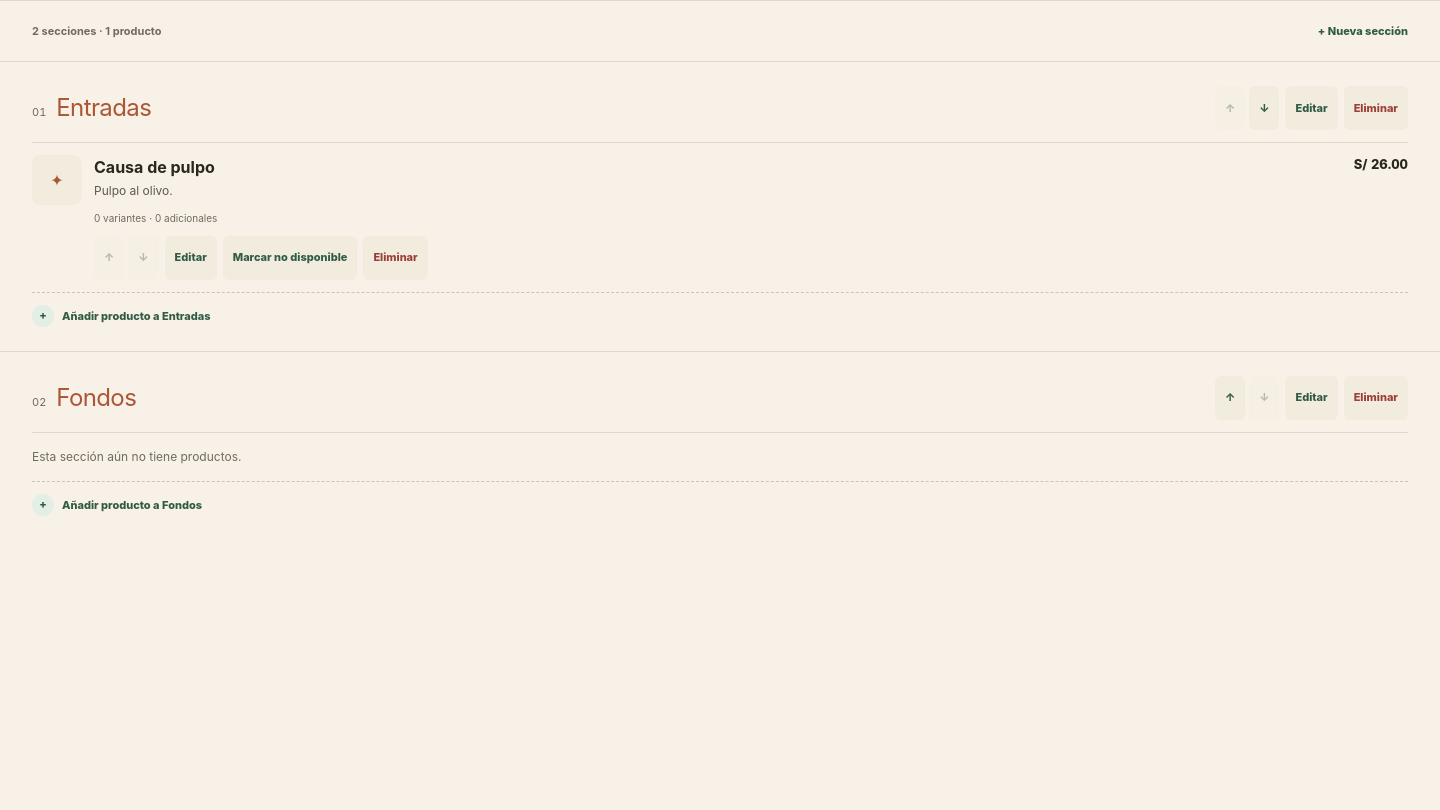
it: MenuManager · estilo de sección › ofrece los dos estilos y preselecciona el de la sección editada
Click the button with aria-label "Editar sección Fondos". click: point(1312, 398)
box: [1286, 376, 1338, 420]
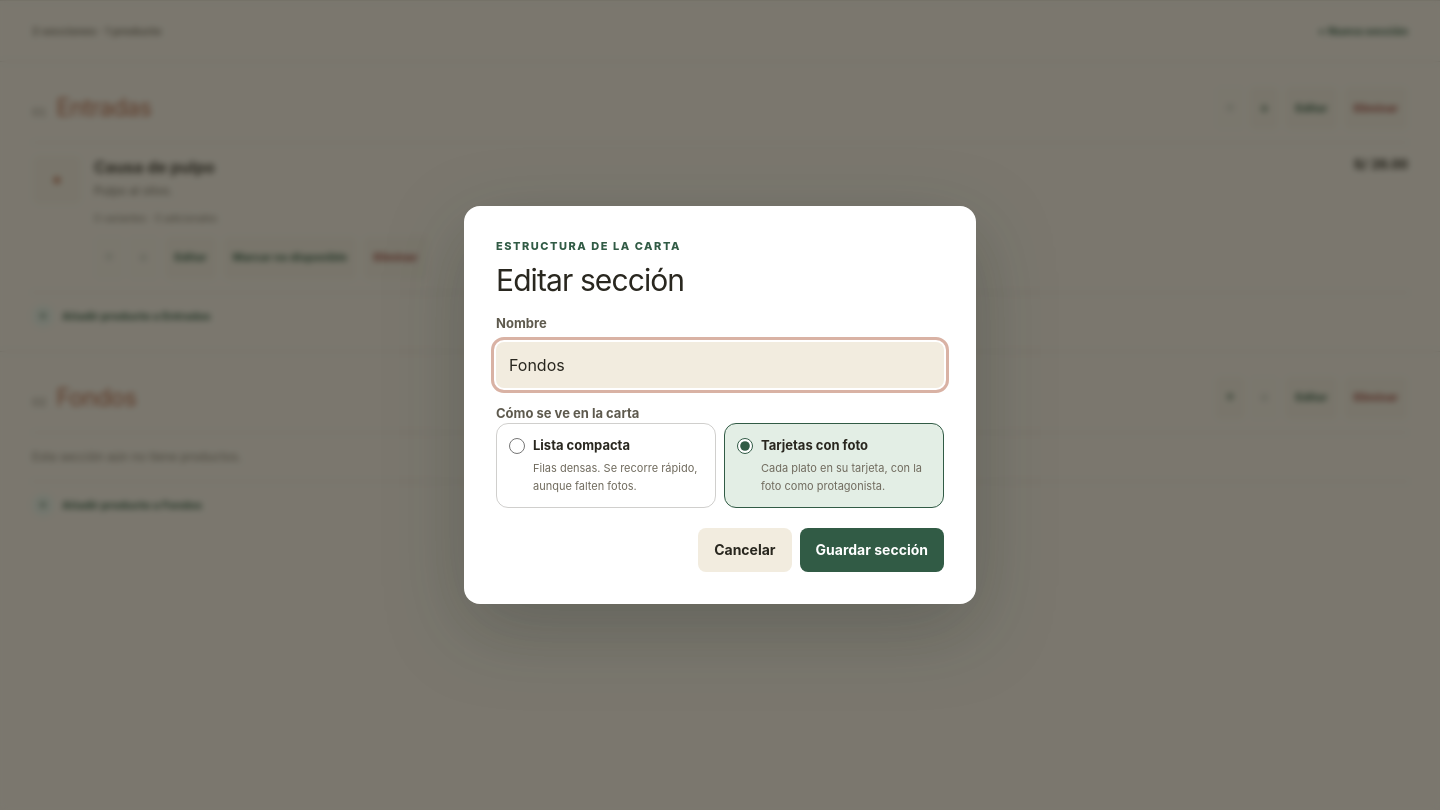
expect the radio button labelled "Lista compacta" is not checked: met, box [509, 438, 525, 454]
expect the radio button labelled "Tarjetas con foto" is checked: met, box [737, 438, 753, 454]
